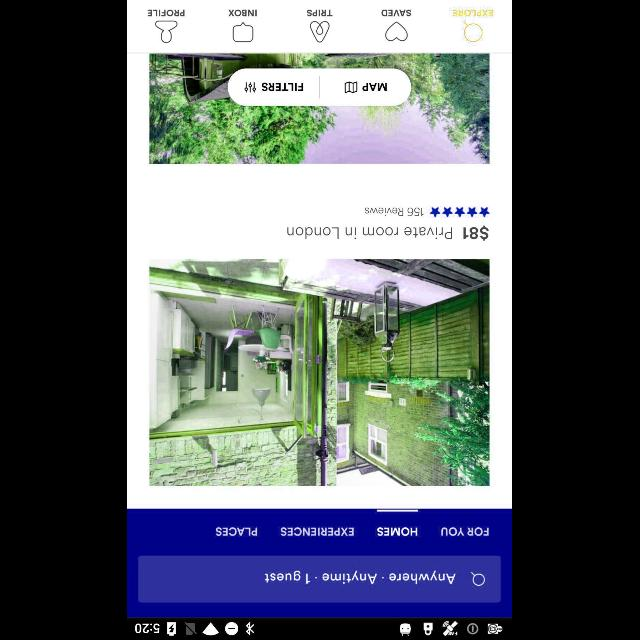icon: (430, 206, 490, 218), (156, 21, 178, 44), (464, 20, 484, 42), (386, 21, 408, 41), (233, 22, 254, 42), (472, 572, 486, 586)
image: (150, 259, 490, 485), (150, 54, 490, 164), (310, 21, 330, 43)
input: (138, 556, 502, 602)
text: (288, 226, 490, 240), (266, 570, 457, 584), (282, 526, 354, 536), (442, 526, 490, 536), (366, 208, 424, 216), (216, 526, 258, 536), (378, 526, 418, 536), (453, 9, 493, 17), (148, 9, 186, 17), (228, 9, 258, 17), (382, 10, 412, 16), (308, 10, 334, 16)
textbutton: (228, 68, 320, 105), (320, 68, 412, 105)
uppertaskbar: (128, 617, 512, 639)
